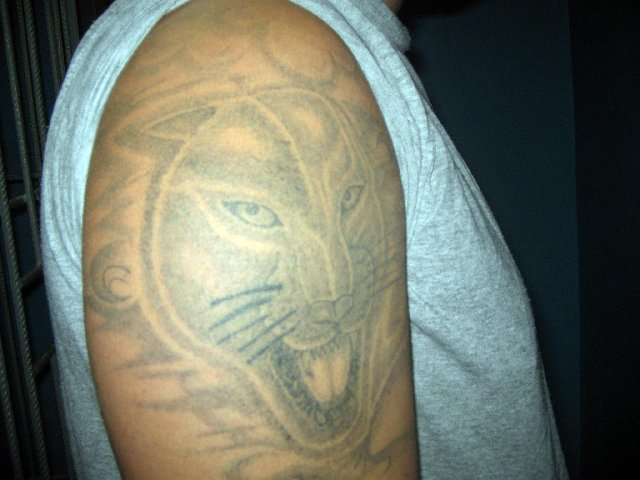tatu5_tigr: (121, 89, 391, 450)
